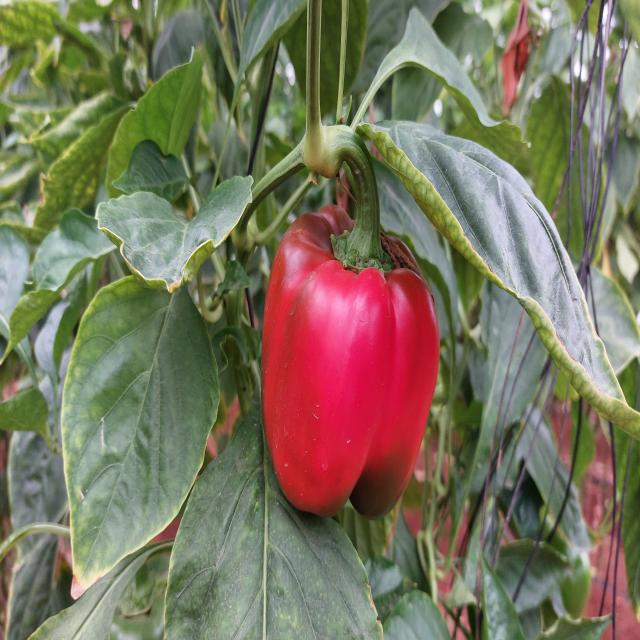Red-Ready-to-Harvest: (262, 206, 440, 536)
